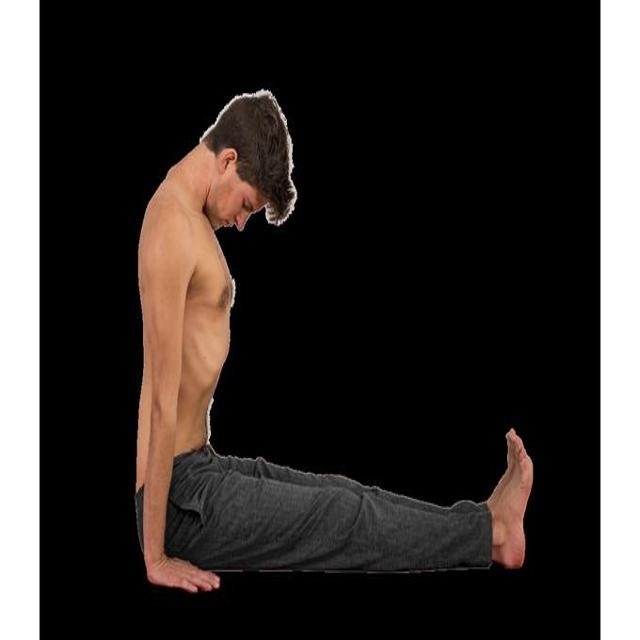Staff_Pose: (134, 87, 536, 594)
